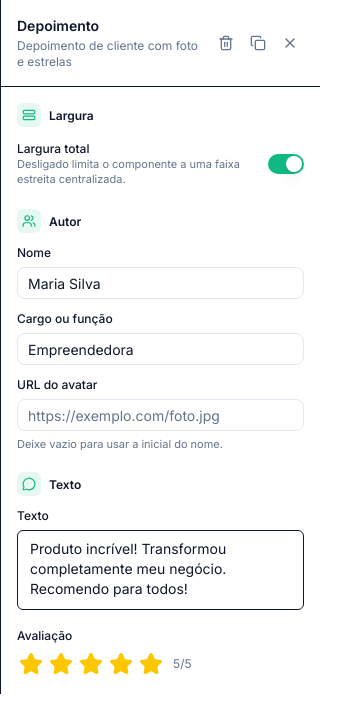
Test case: PropertyPanel: novos controles › avaliação por estrelas atualiza a store
Click the button named "3 de 5 estrelas".
click(91, 664)  # box [77, 650, 105, 678]
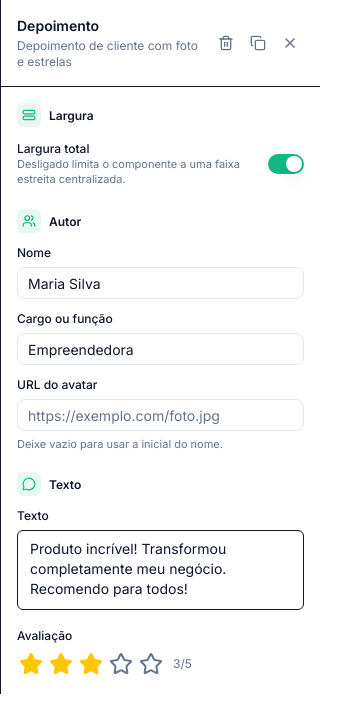
Result: the text "3/5" is shown at [173, 656, 192, 672]
